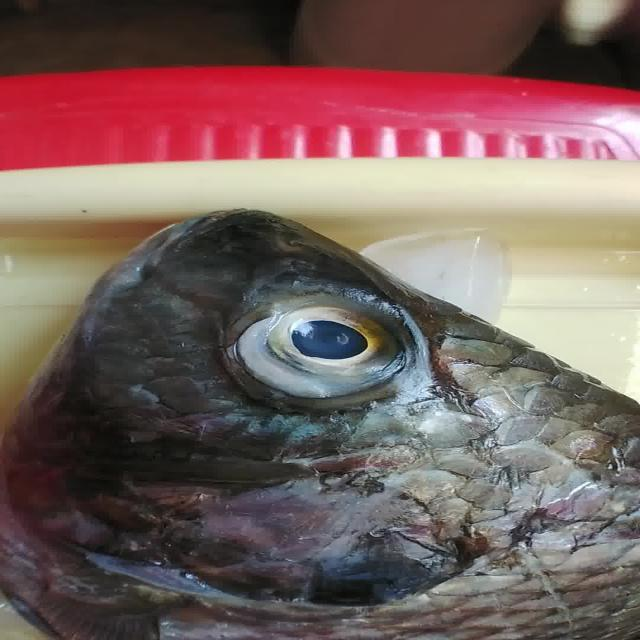Fresh: (227, 286, 425, 410)
